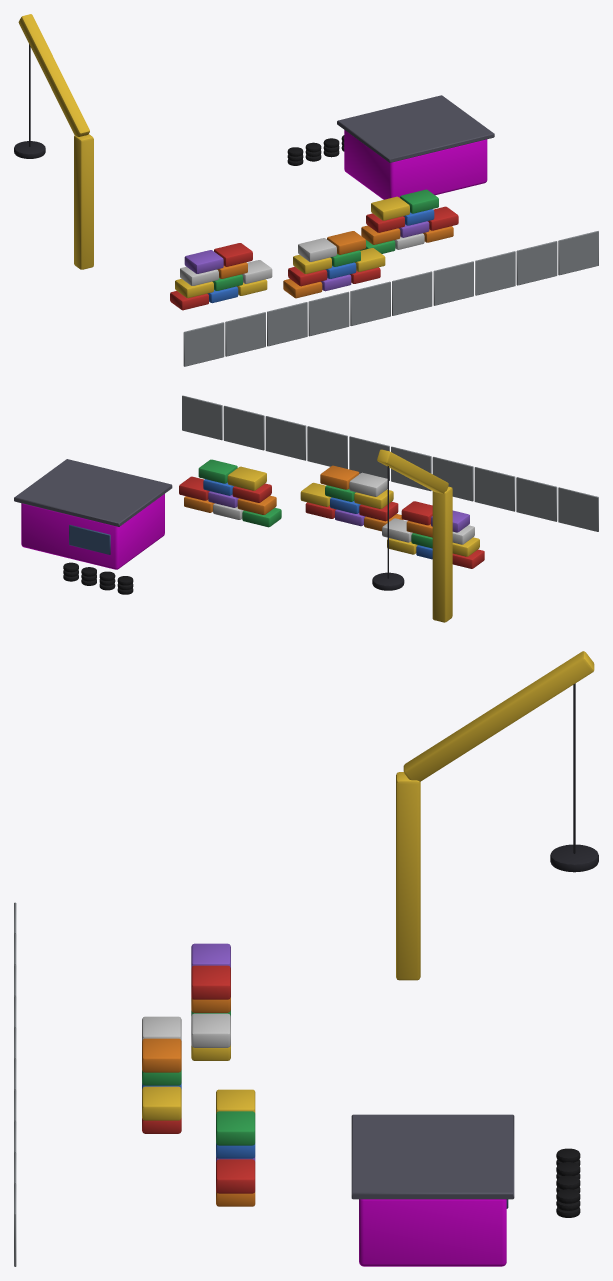
Rendered from Poi_ScrapYard.fbx.
The picture shows the model from 3 angles, top to bottom: view 1: azimuth 30°, elevation 25°; view 2: azimuth 150°, elevation 25°; view 3: azimuth 270°, elevation 25°; orthographic projection. The views are drawn at different scales.
Visible parts, largest first — view 1: Poi_ScrapYard; view 2: Poi_ScrapYard; view 3: Poi_ScrapYard.
Boxes of the visible parts, left/top/right/bottom form: Poi_ScrapYard: left=14, top=14, right=598, bottom=366; Poi_ScrapYard: left=14, top=395, right=598, bottom=622; Poi_ScrapYard: left=14, top=651, right=598, bottom=1266.
Size of the model in its own units: 30.3 by 14.44 by 23.74.
